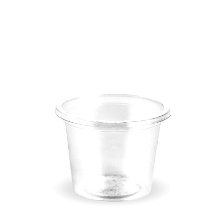glass: (52, 84, 184, 205)
